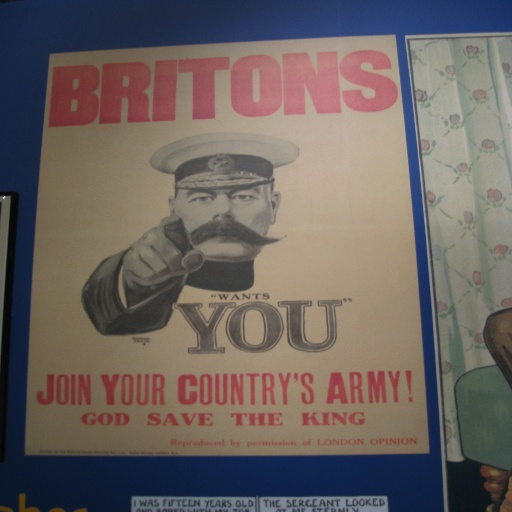hand: (122, 214, 203, 287)
